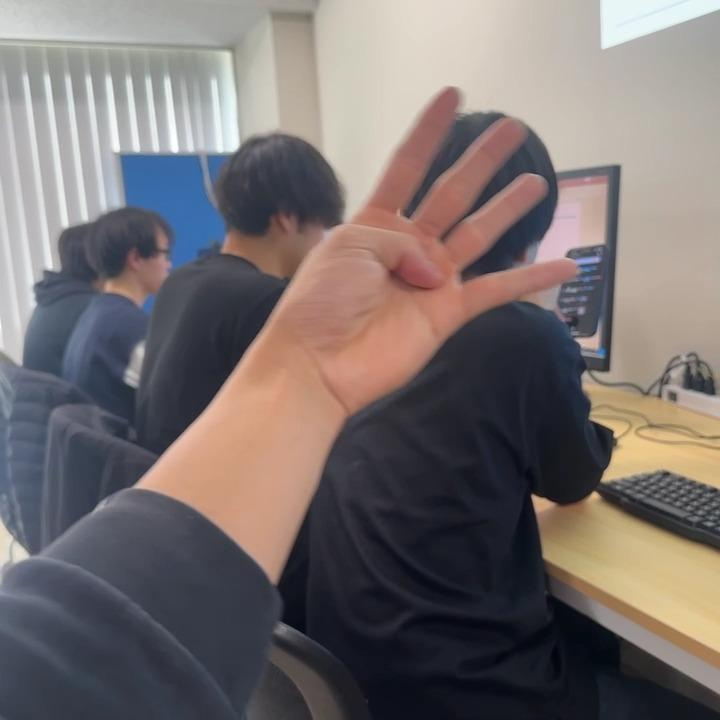without_gloves: (244, 60, 588, 391)
